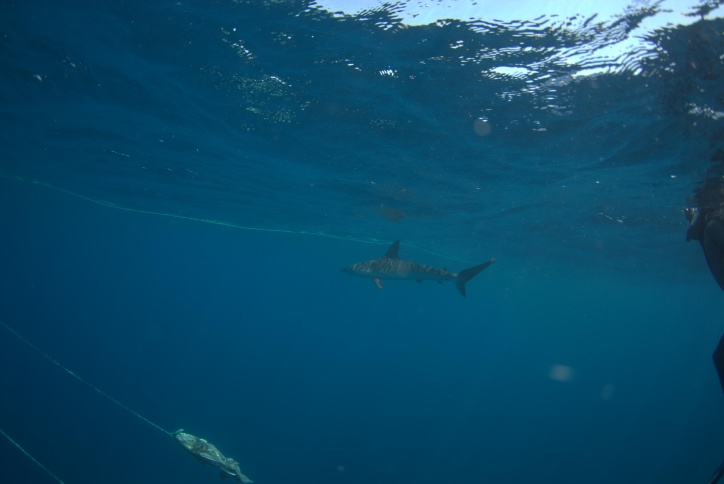Hammer: (336, 231, 501, 309)
